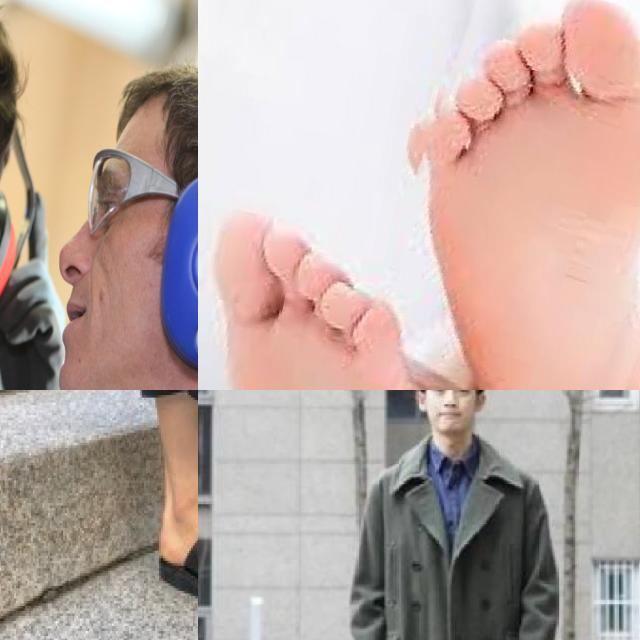Barefoots: (399, 0, 640, 390), (198, 200, 445, 390)
Ear-protection: (55, 61, 198, 390)
Sandals: (155, 513, 198, 631)
face_nomask: (427, 390, 474, 437)
person: (353, 390, 577, 640)
